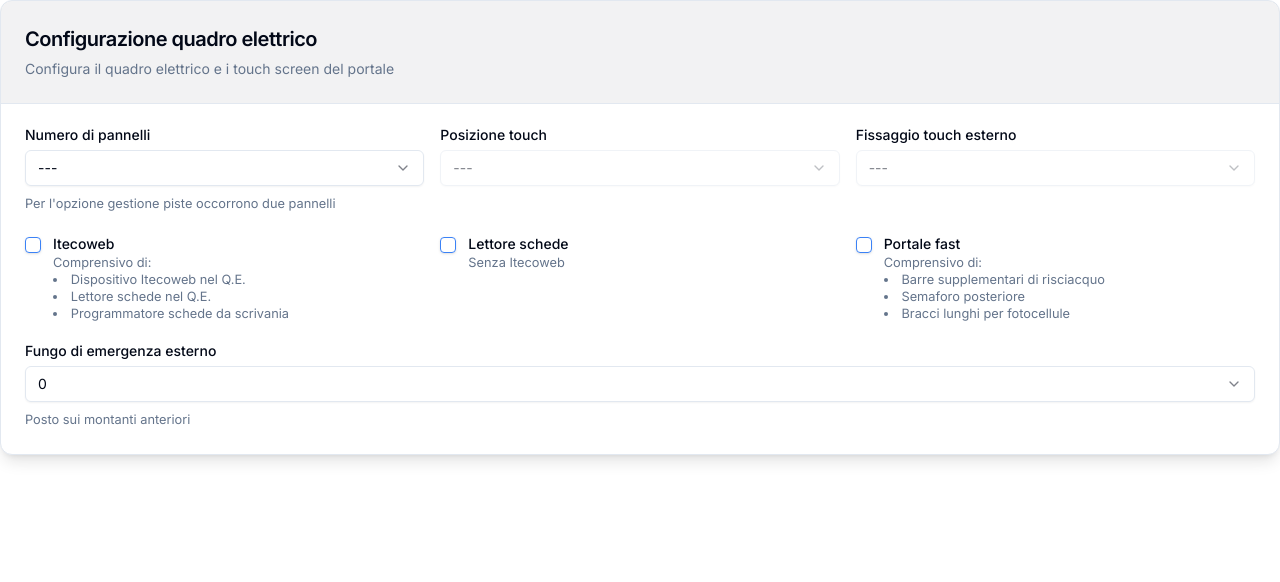
Scenario: TouchSection › Card quantity conditional rendering › checking Itecoweb reveals card_qty
Expected: the text "Numero di schede" is not shown
Click the 1st checkbox named "Itecoweb" at (33, 245), box [25, 237, 41, 253]
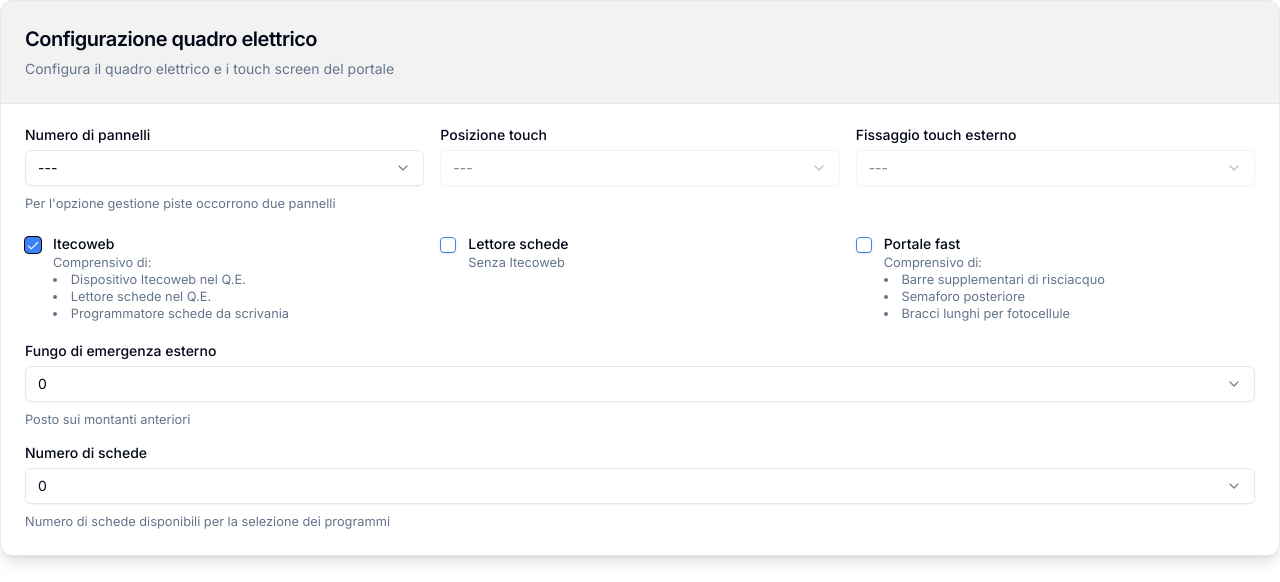
Expected: the text "Numero di schede" is shown, [25, 444, 147, 461]
